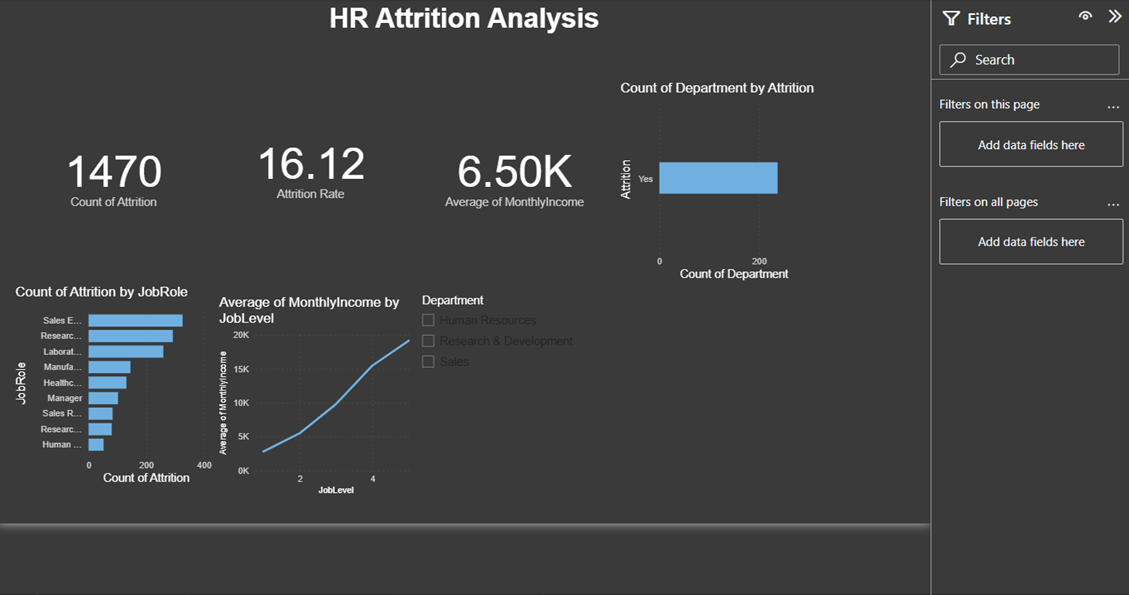

This screenshot's page, from the dashboard's own definition file:
{"tool":"powerbi","page":{"name":"HR Attrition Analysis","canvas":[1280,720],"ordinal":2},"visuals":[{"type":"card","fields":{"Values":["CountNonNull(hr_clean.Attrition)"]},"box":[19.2,101.5,279.9,279.9],"z":0},{"type":"card","fields":{"Values":["hr_clean.Attrition Rate"]},"box":[289.5,90.6,279.9,279.9],"z":1},{"type":"card","fields":{"Values":["Avg(hr_clean.MonthlyIncome)"]},"box":[569.5,101.5,279.9,279.9],"z":2},{"type":"clusteredBarChart","fields":{"Y":["CountNonNull(hr_clean.Department)"],"Category":["hr_clean.Attrition"]},"box":[849.4,111.1,279.9,279.9],"z":3},{"type":"clusteredBarChart","fields":{"Category":["hr_clean.JobRole"],"Y":["CountNonNull(hr_clean.Attrition)"]},"box":[19.2,391.1,279.9,279.9],"z":4},{"type":"lineChart","fields":{"Category":["hr_clean.JobLevel"],"Y":["Avg(hr_clean.MonthlyIncome)"]},"box":[299.1,406.2,279.9,279.9],"z":5},{"type":"slicer","fields":{"Values":["hr_clean.Department"]},"box":[569.5,400.7,279.9,285.4],"z":6},{"type":"textbox","box":[0,0,1280.3,71.4],"z":7}]}

Visuals, with their boxes on the page's 1280x720 design canvas (x1, y1, x2, y2). These are canvas units, not pixel positions in the 1129x595 screenshot, which may show the page scaled, cropped or inside an application window:
card - CountNonNull(hr_clean.Attrition): [19, 102, 299, 381]
card - hr_clean.Attrition Rate: [290, 91, 569, 370]
card - Avg(hr_clean.MonthlyIncome): [570, 102, 849, 381]
clusteredBarChart - CountNonNull(hr_clean.Department) x hr_clean.Attrition: [849, 111, 1129, 391]
clusteredBarChart - hr_clean.JobRole x CountNonNull(hr_clean.Attrition): [19, 391, 299, 671]
lineChart - hr_clean.JobLevel x Avg(hr_clean.MonthlyIncome): [299, 406, 579, 686]
slicer - hr_clean.Department: [570, 401, 849, 686]
textbox: [0, 0, 1280, 71]
